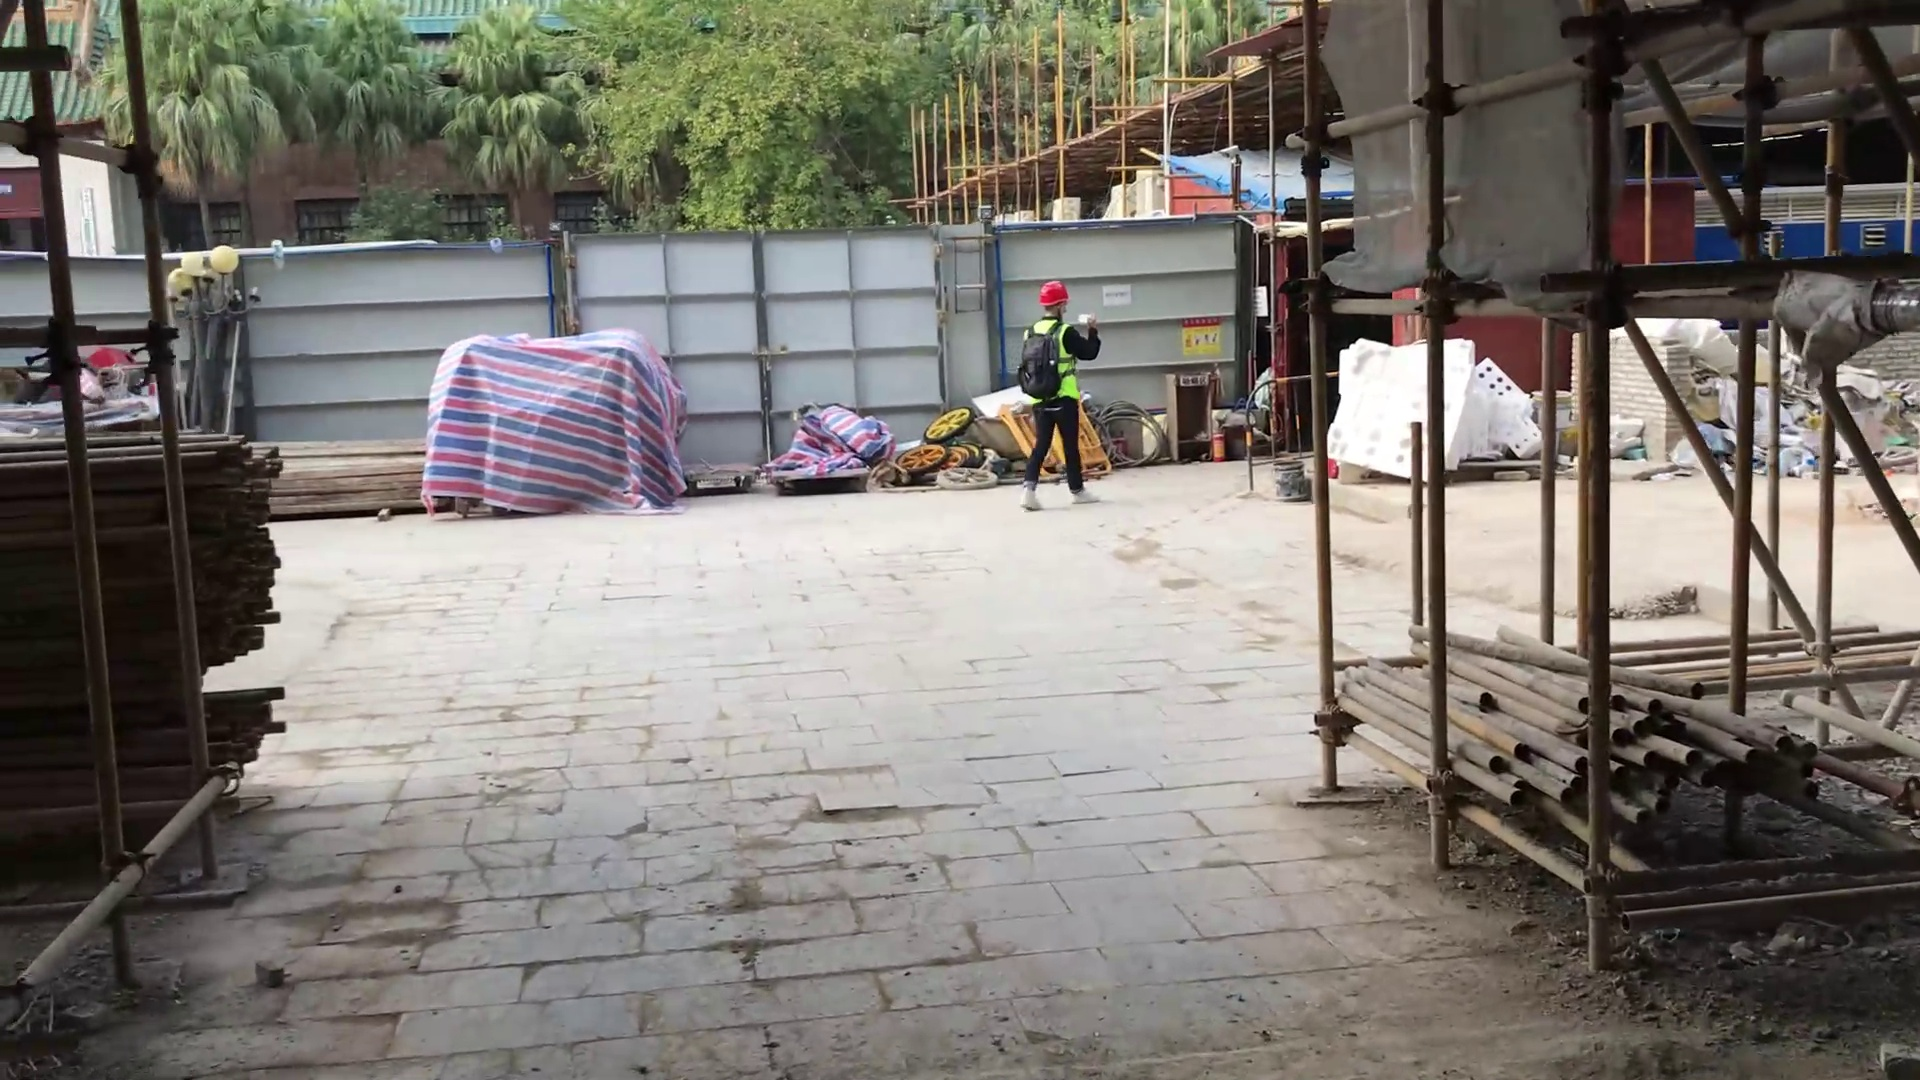helmet: (1036, 271, 1071, 309)
person: (1013, 278, 1113, 519)
vest: (1021, 319, 1092, 402)
